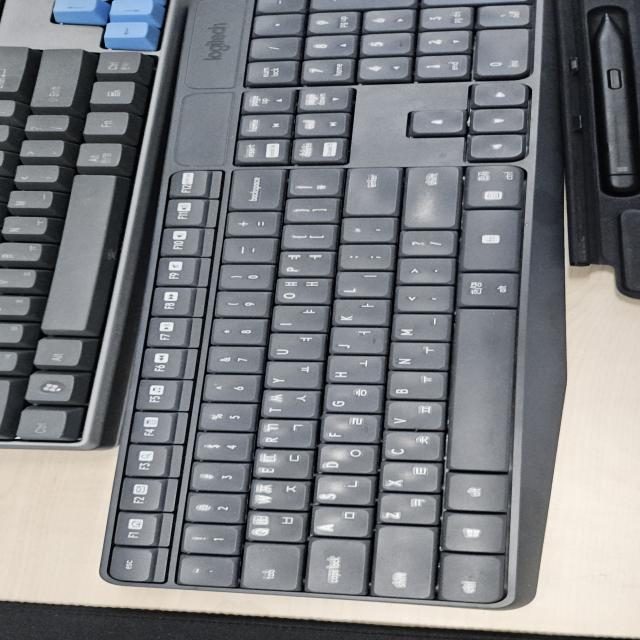Keyboard: (3, 1, 634, 616)
